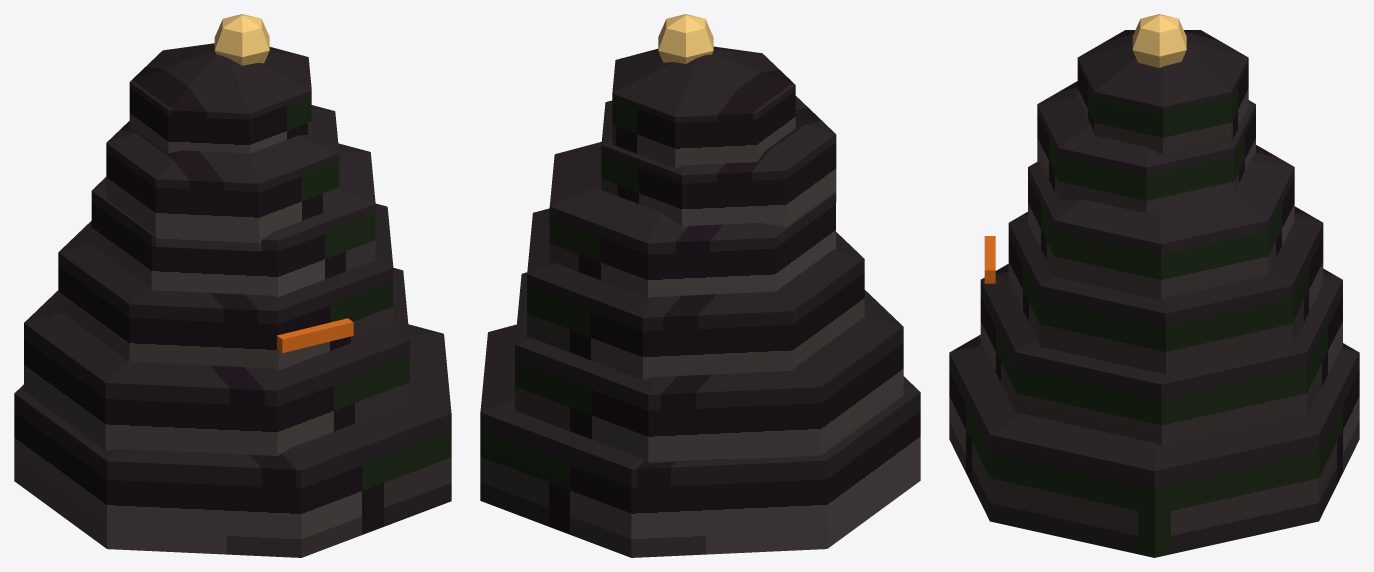
The model's file is cinder_cairn.glb.
3 views of the same model, side by side, from view 1: azimuth 30°, elevation 25°; view 2: azimuth 150°, elevation 25°; view 3: azimuth 270°, elevation 25° (orthographic). The views are drawn at different scales.
Visible parts, largest first — view 1: cinder_cairn; view 2: cinder_cairn; view 3: cinder_cairn.
Part boxes in pixels (x1=…): cinder_cairn: x1=14, y1=14, x2=451, y2=557; cinder_cairn: x1=480, y1=14, x2=920, y2=557; cinder_cairn: x1=949, y1=14, x2=1359, y2=557.
Bounding box in the file's own units: 1.19 × 1.47 × 1.11.
Materials: 2 (1 with a texture image).
